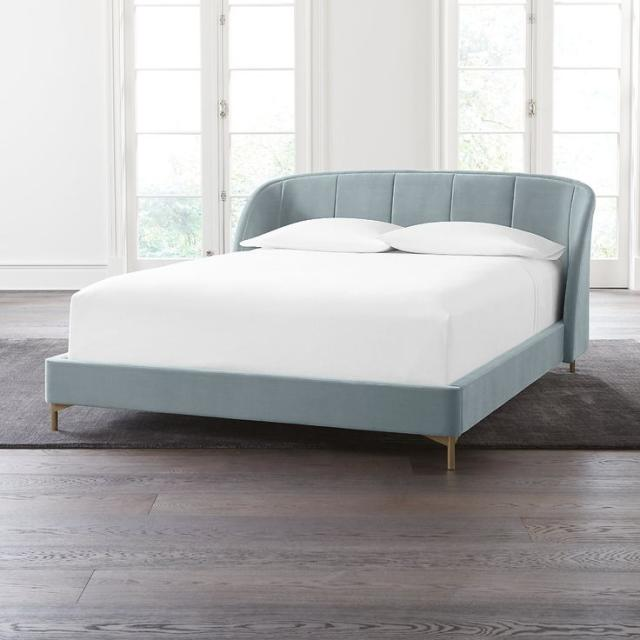obstacle: (44, 168, 596, 469)
